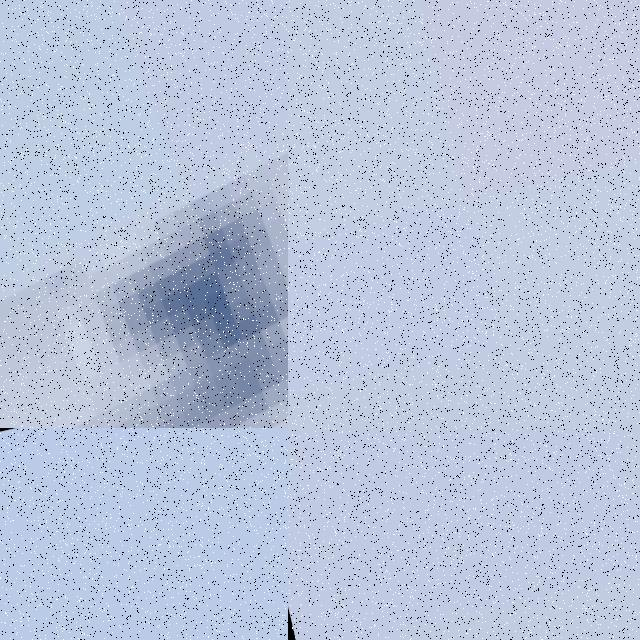drone: (0, 0, 288, 428)
